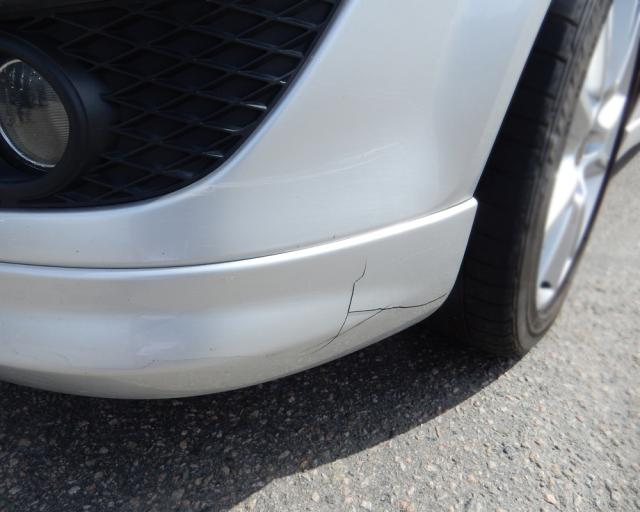crack: (308, 262, 450, 355)
